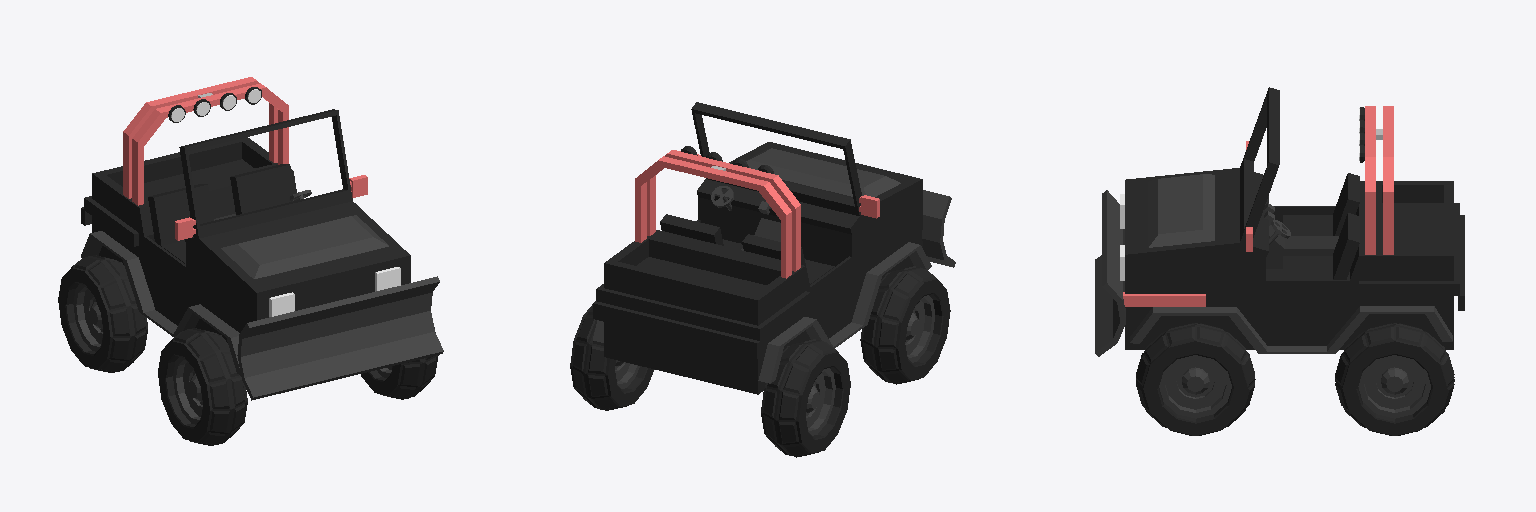
Rendered from car.obj.
3 views of the same model, side by side, from view 1: azimuth 30°, elevation 25°; view 2: azimuth 150°, elevation 25°; view 3: azimuth 270°, elevation 25° (orthographic).
Visible parts, largest first — view 1: Куб, Окружность_Окружность.001, Окружность.002_Окружность.004, Куб.003_Куб.007, Плоскость.001, Куб.007_Куб.011, Куб.008_Куб.012, Куб.001_Куб.004, Окружность.003_Окружность.005, Куб.002_Куб.005; view 2: Куб, Окружность_Окружность.001, Плоскость.001, Куб.008_Куб.012, Куб.007_Куб.011, Куб.003_Куб.007, Окружность.002_Окружность.004; view 3: Куб, Окружность_Окружность.001, Куб.003_Куб.007, Плоскость.001, Окружность.002_Окружность.004, Куб.007_Куб.011, Куб.008_Куб.012, Куб.004_Куб.008, Куб.006_Куб.010.
Part boxes in pixels (x1,y1,x2,y2): Куб: (81, 109, 410, 342); Окружность_Окружность.001: (58, 255, 438, 445); Окружность.002_Окружность.004: (237, 276, 443, 400); Куб.003_Куб.007: (148, 164, 294, 263); Плоскость.001: (81, 231, 240, 375); Куб.007_Куб.011: (132, 83, 288, 205); Куб.008_Куб.012: (123, 77, 277, 198); Куб.001_Куб.004: (269, 267, 400, 316); Окружность.003_Окружность.005: (168, 87, 261, 122); Куб.002_Куб.005: (175, 175, 367, 240); Куб: (593, 102, 922, 394); Окружность_Окружность.001: (570, 266, 950, 457); Плоскость.001: (593, 242, 931, 383); Куб.008_Куб.012: (635, 156, 791, 278); Куб.007_Куб.011: (647, 150, 800, 271); Куб.003_Куб.007: (660, 214, 834, 284); Окружность.002_Окружность.004: (922, 190, 955, 267); Куб: (1125, 87, 1464, 349); Окружность_Окружность.001: (1136, 323, 1454, 435); Куб.003_Куб.007: (1283, 173, 1359, 279); Плоскость.001: (1130, 306, 1452, 353); Окружность.002_Окружность.004: (1095, 190, 1125, 356); Куб.007_Куб.011: (1365, 106, 1375, 254); Куб.008_Куб.012: (1383, 106, 1393, 254); Куб.004_Куб.008: (1266, 225, 1338, 268); Куб.006_Куб.010: (1123, 292, 1205, 306).
Bounding box in the file's own units: 5.03 × 5.52 × 7.07.